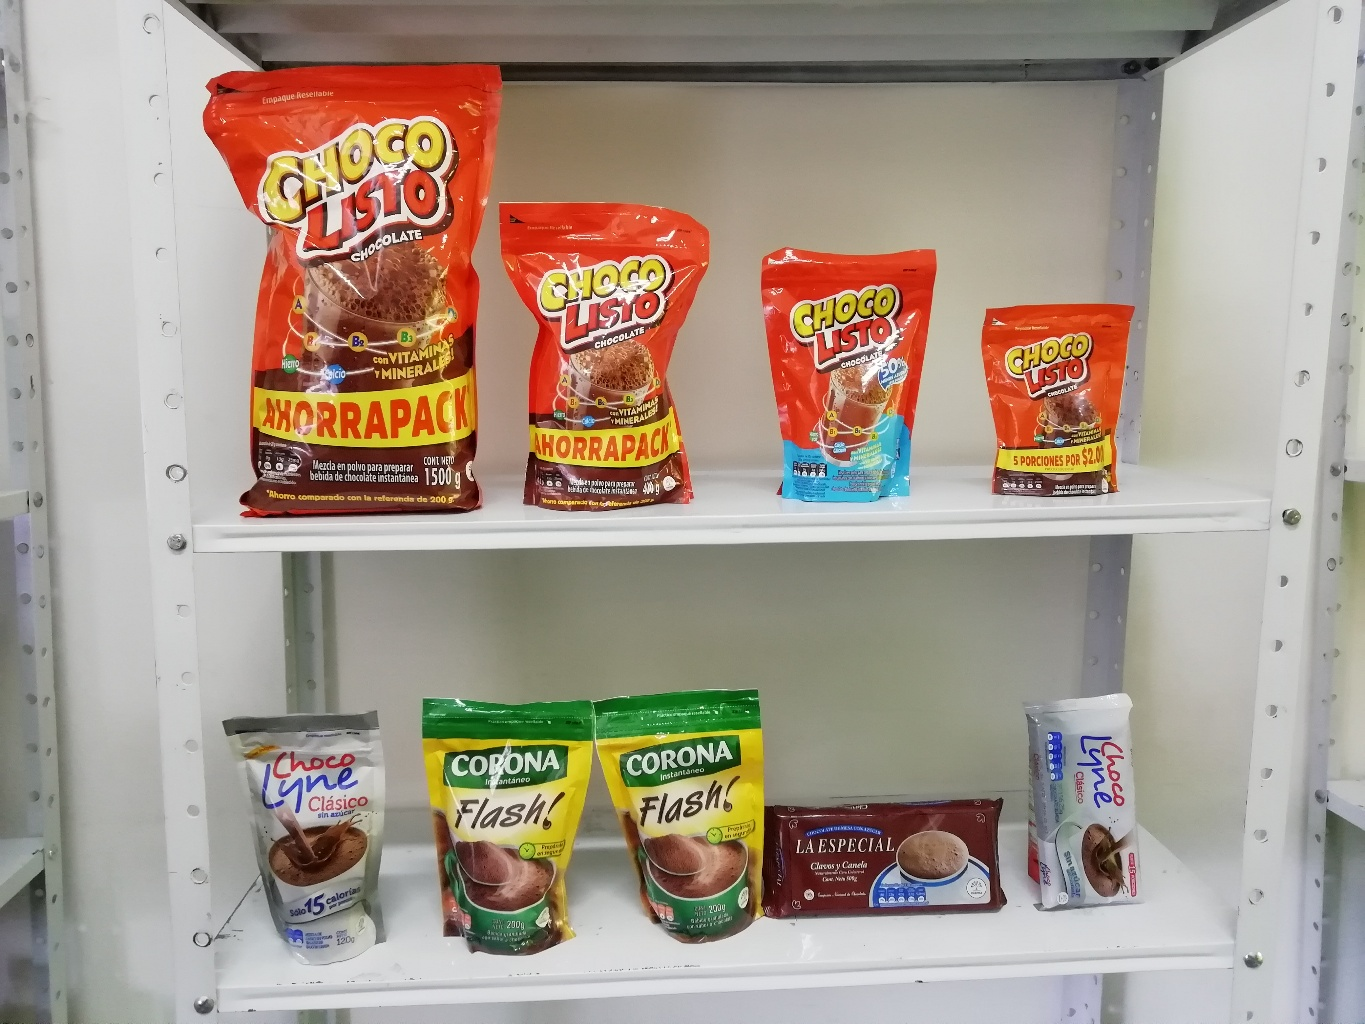COL0170103DYP1,500: (202, 55, 496, 520)
COL0170103DYP10000: (978, 299, 1140, 510)
COL0170103DYP40000: (488, 194, 709, 520)
COL0170104DYP20000: (748, 222, 935, 527)
